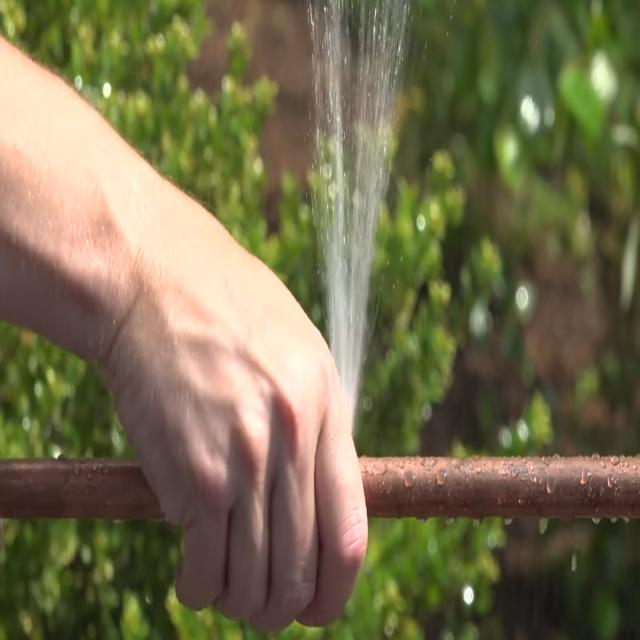leak: (310, 0, 409, 419)
